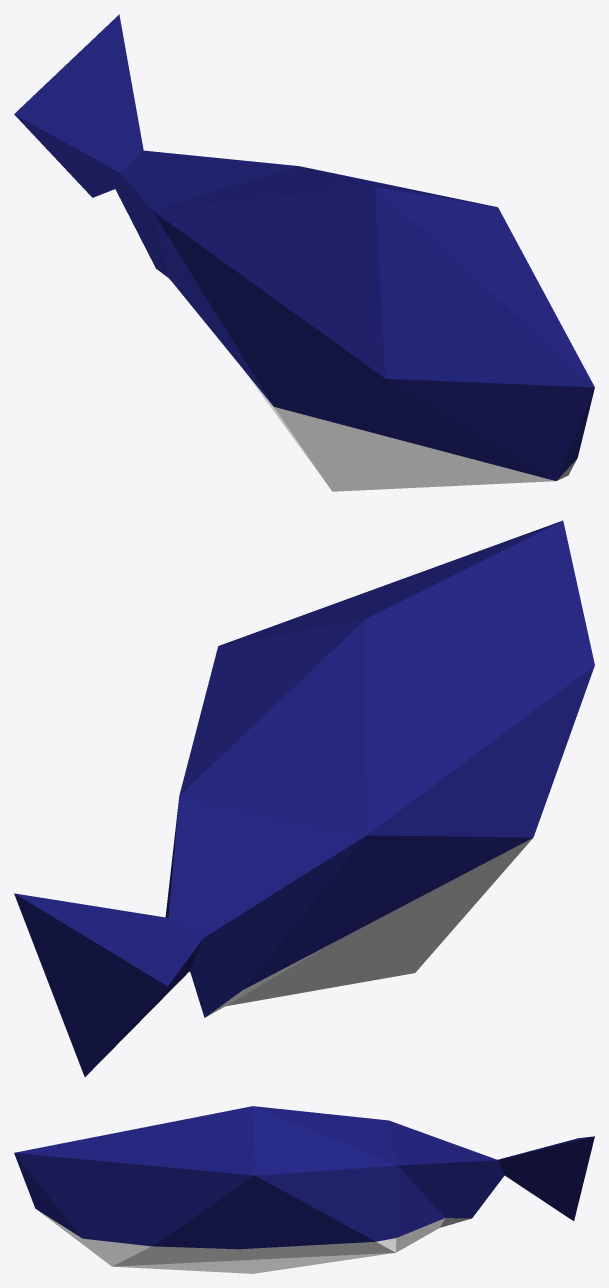
The model's file is Fish.fbx.
The picture shows the model from 3 angles, top to bottom: view 1: azimuth 30°, elevation 25°; view 2: azimuth 150°, elevation 25°; view 3: azimuth 270°, elevation 25°; orthographic projection. The views are drawn at different scales.
Parts seen in each view (by area): view 1: Icosphere; view 2: Icosphere; view 3: Icosphere.
Part boxes in pixels (left/top/right/bottom): Icosphere: left=14, top=14, right=594, bottom=491; Icosphere: left=14, top=520, right=594, bottom=1076; Icosphere: left=14, top=1106, right=594, bottom=1273.
Size of the model in its own units: 61.59 by 69.96 by 204.
